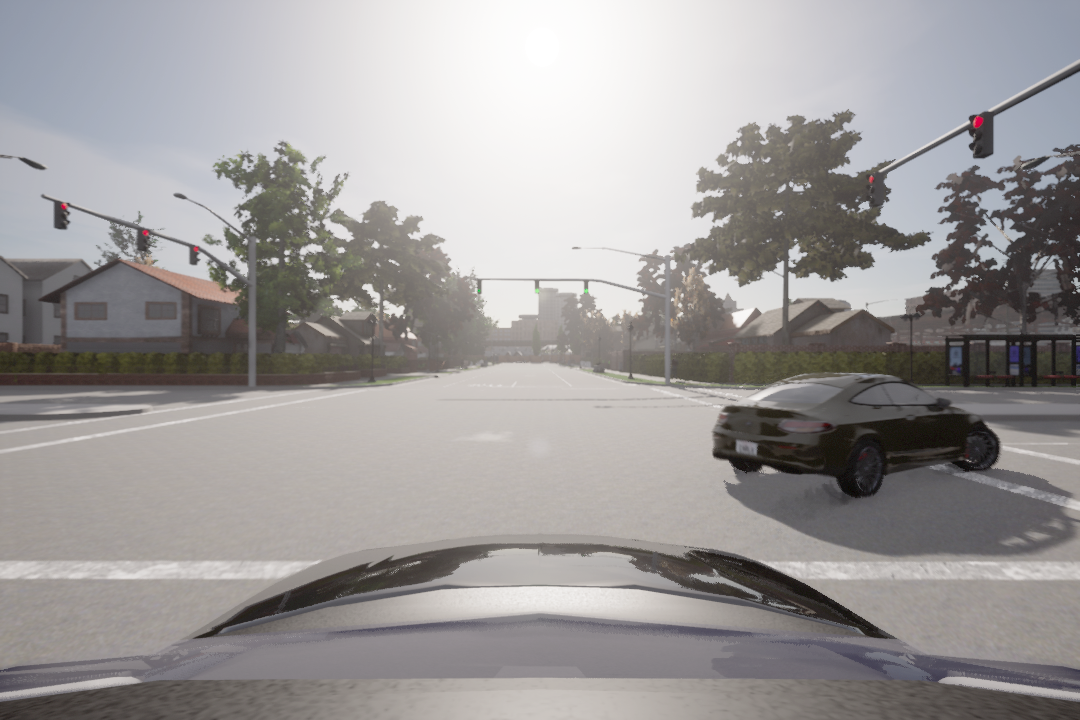TrafficLight: (966, 108, 998, 156), (864, 171, 887, 205), (52, 197, 72, 232), (136, 224, 149, 253), (186, 244, 199, 266), (533, 277, 542, 295), (583, 278, 589, 297), (476, 279, 482, 295)
